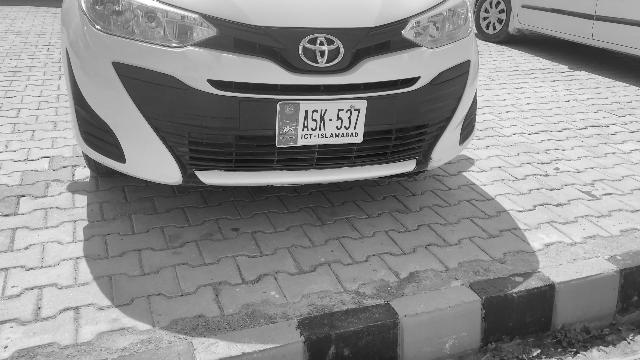Number: (299, 105, 364, 133)
